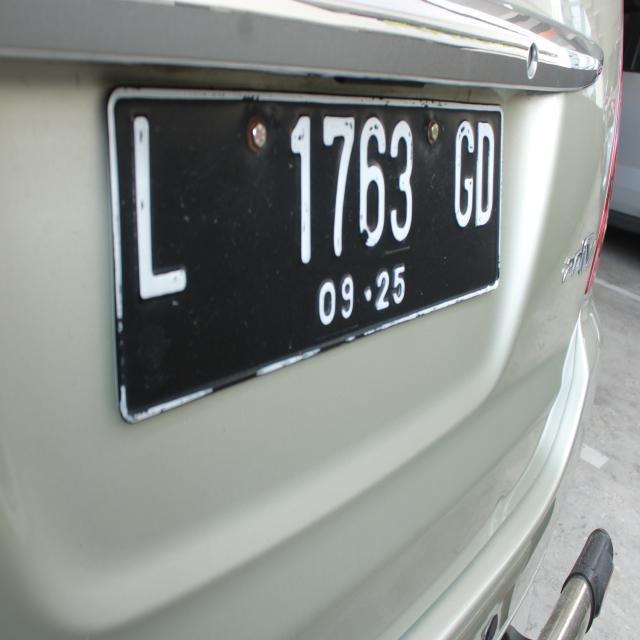1: (278, 102, 321, 268)
3: (386, 98, 418, 249)
6: (354, 98, 389, 253)
7: (320, 98, 356, 255)
D: (476, 101, 500, 241)
G: (448, 100, 476, 236)
L: (118, 102, 197, 302)
